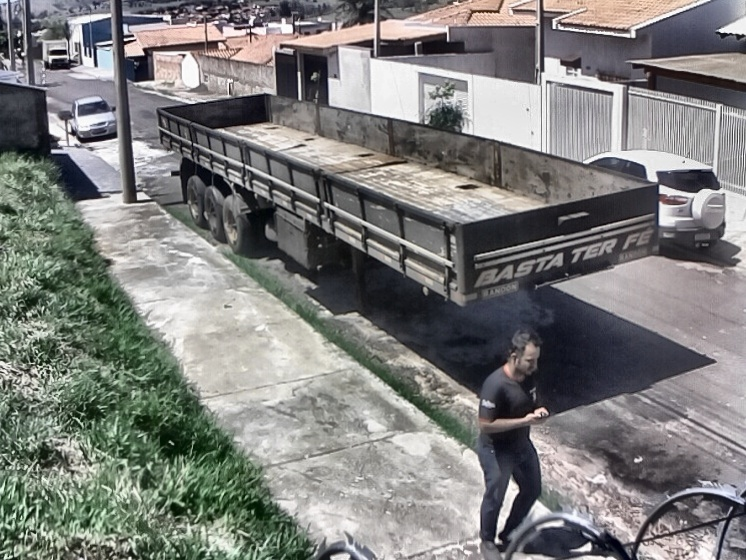person: (476, 328, 551, 560)
